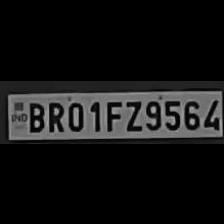0: (64, 99, 86, 131)
1: (86, 97, 102, 130)
4: (202, 95, 220, 129)
5: (162, 96, 180, 128)
6: (181, 97, 199, 129)
9: (141, 96, 161, 130)
B: (25, 99, 45, 131)
F: (102, 97, 120, 131)
R: (46, 98, 64, 132)
Z: (122, 97, 140, 131)
